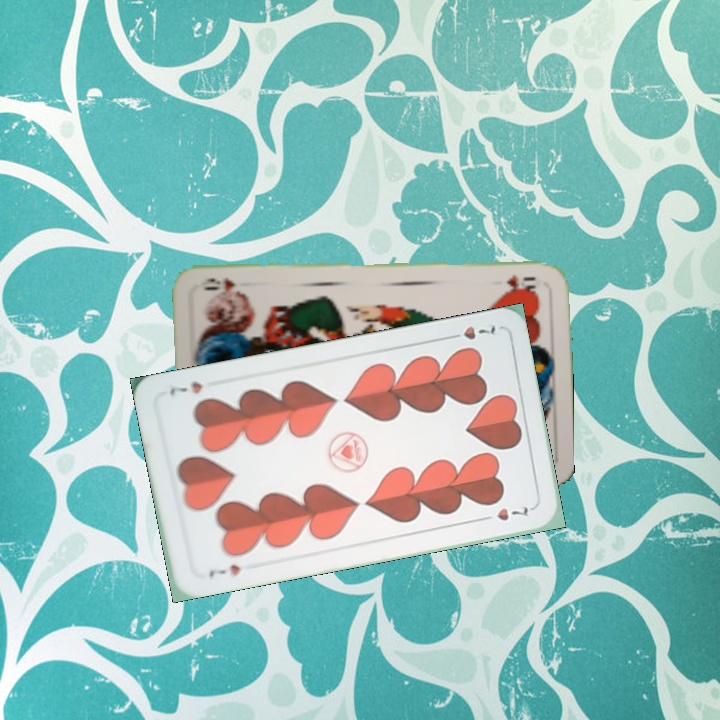H7: (442, 320, 498, 343), (205, 560, 243, 580)
HO: (502, 270, 539, 292)
